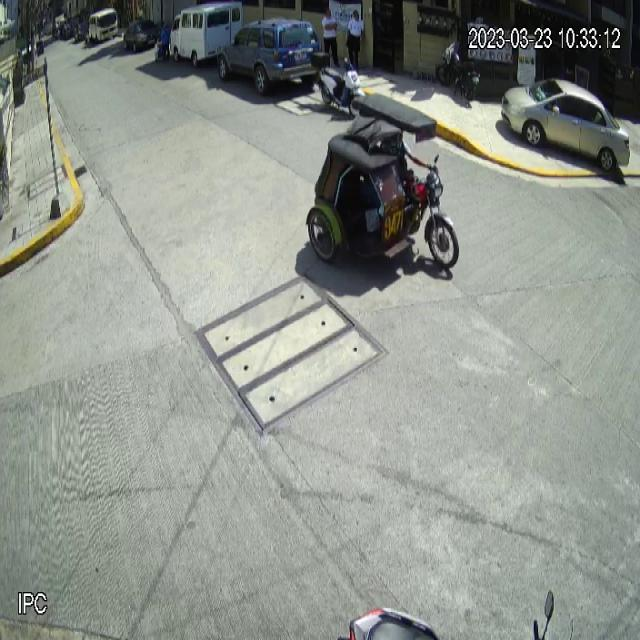Car: (500, 76, 631, 172), (216, 17, 323, 97)
Motorcycle: (310, 50, 369, 122)
Tricycle: (304, 90, 461, 282)
Van: (169, 0, 244, 69)
